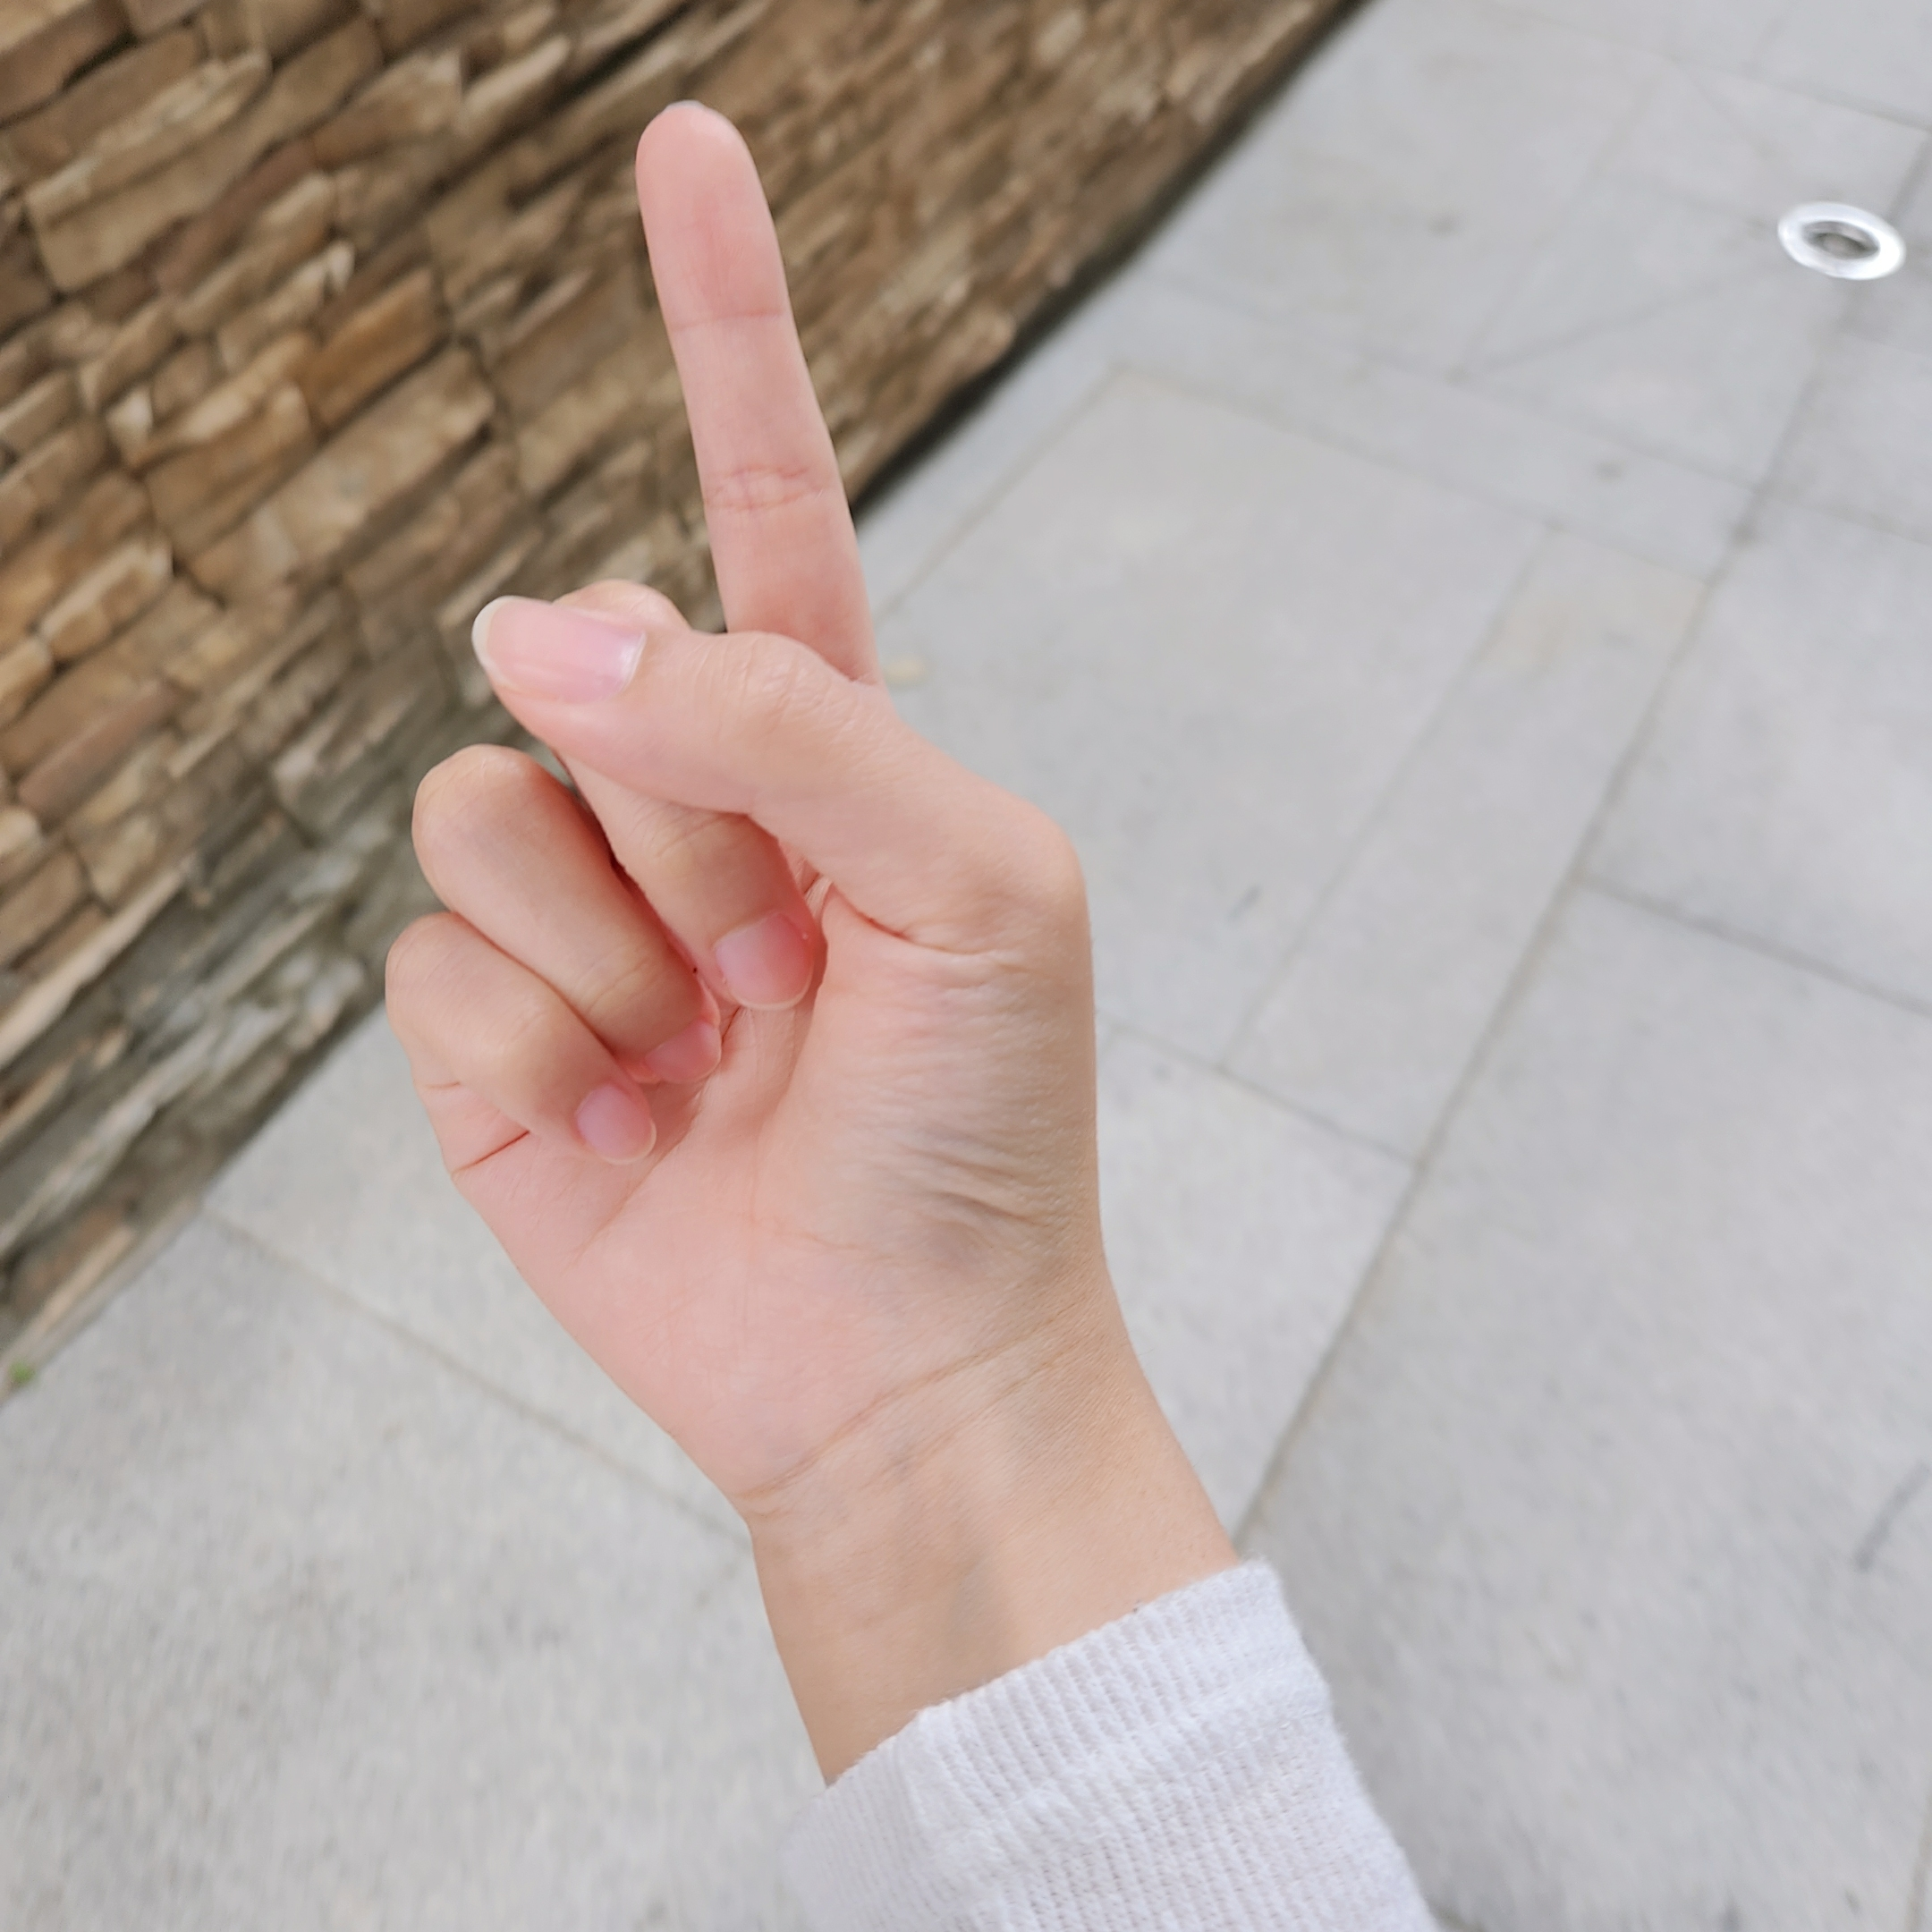what: (387, 99, 1113, 1474)
